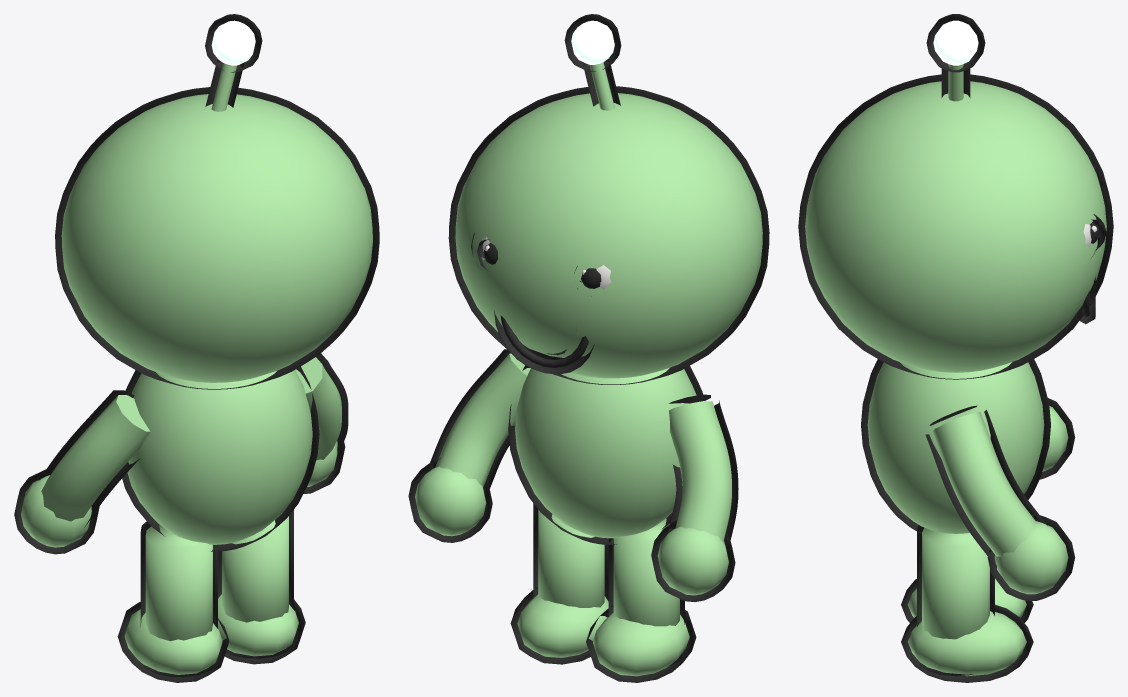
File: vf_alien.glb
3 renders of one model, left to right at view 1: azimuth 30°, elevation 25°; view 2: azimuth 150°, elevation 25°; view 3: azimuth 270°, elevation 25°, orthographic.
Parts seen in each view (by area): view 1: alien; view 2: alien; view 3: alien.
Boxes of the visible parts, x1,y1,x2,y2 form: alien: (14, 14, 379, 682); alien: (408, 14, 769, 682); alien: (798, 14, 1113, 682).
Bounding box in the file's own units: 0.9746 × 1.9 × 0.836.
